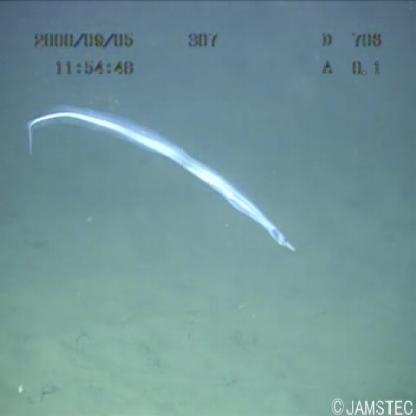Bio: (19, 102, 303, 262)
